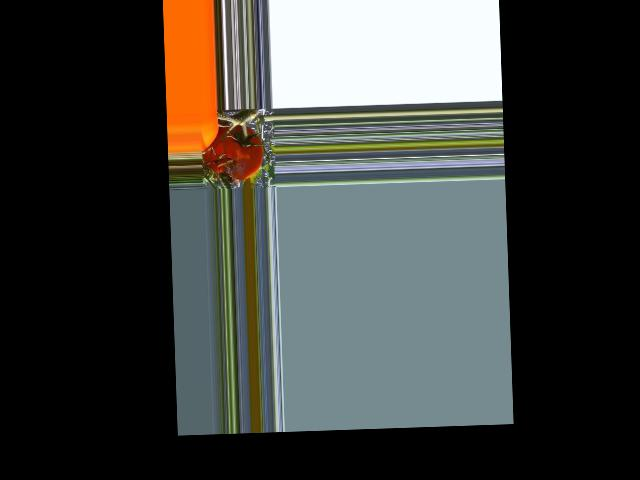tomato: (202, 123, 264, 183)
